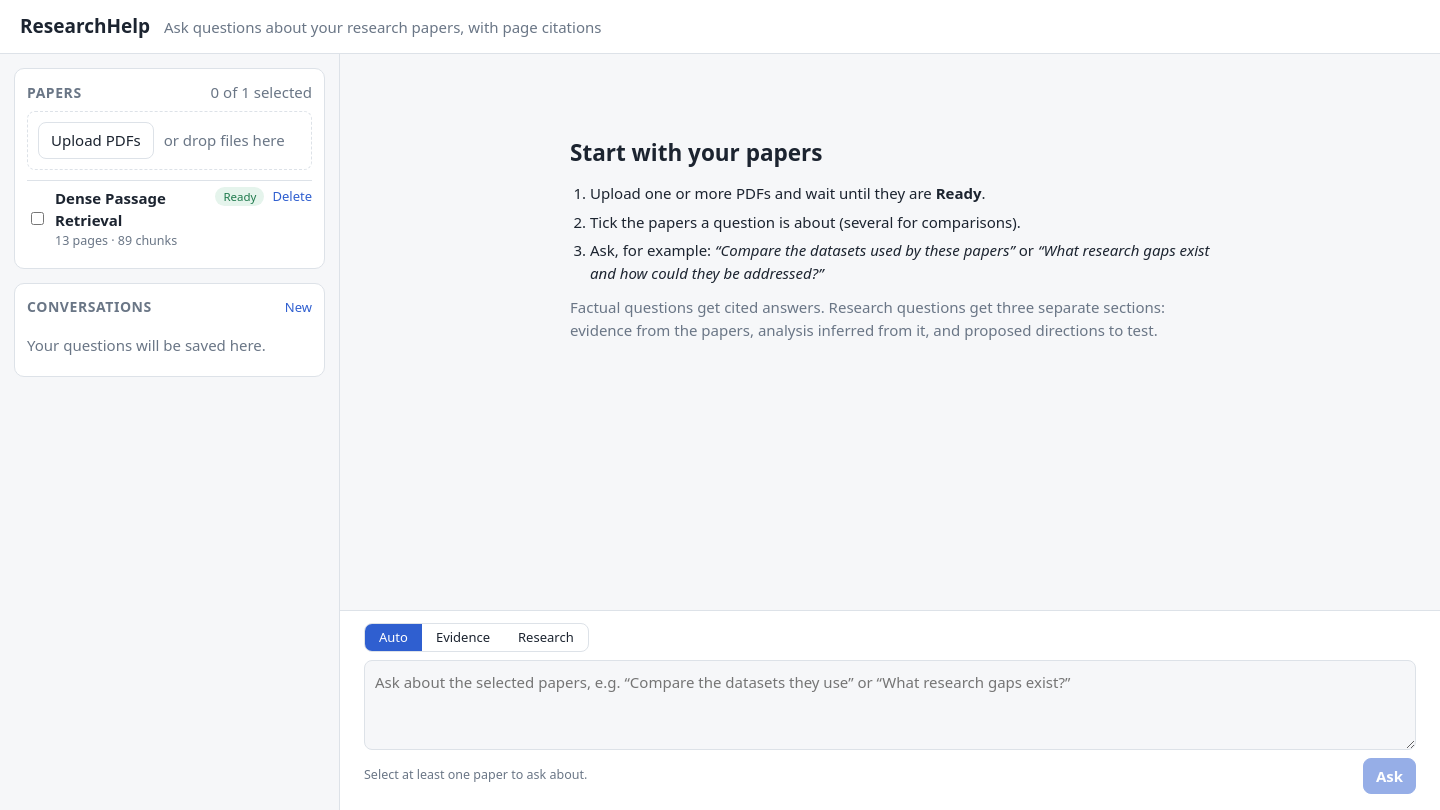
Scenario: App › sends the chosen mode, and shows a research answer in three sections
Expected: the text "Dense Passage Retrieval" is shown, [55,188,166,230]
Click the checkbox named "Select Dense": click(38, 218) [31,190,44,247]
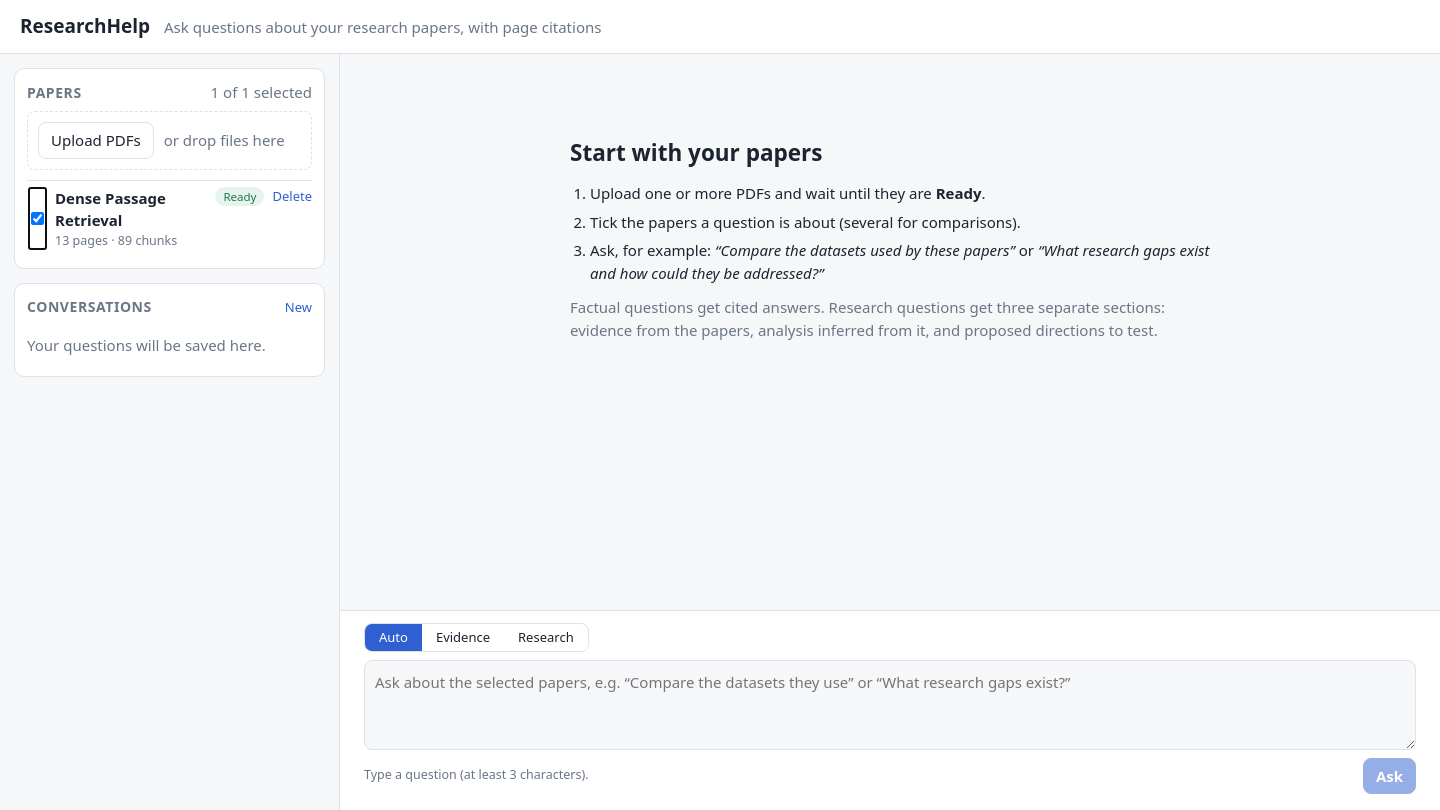
Click the radio button labelled "Research": click(546, 636) [518,628,574,646]
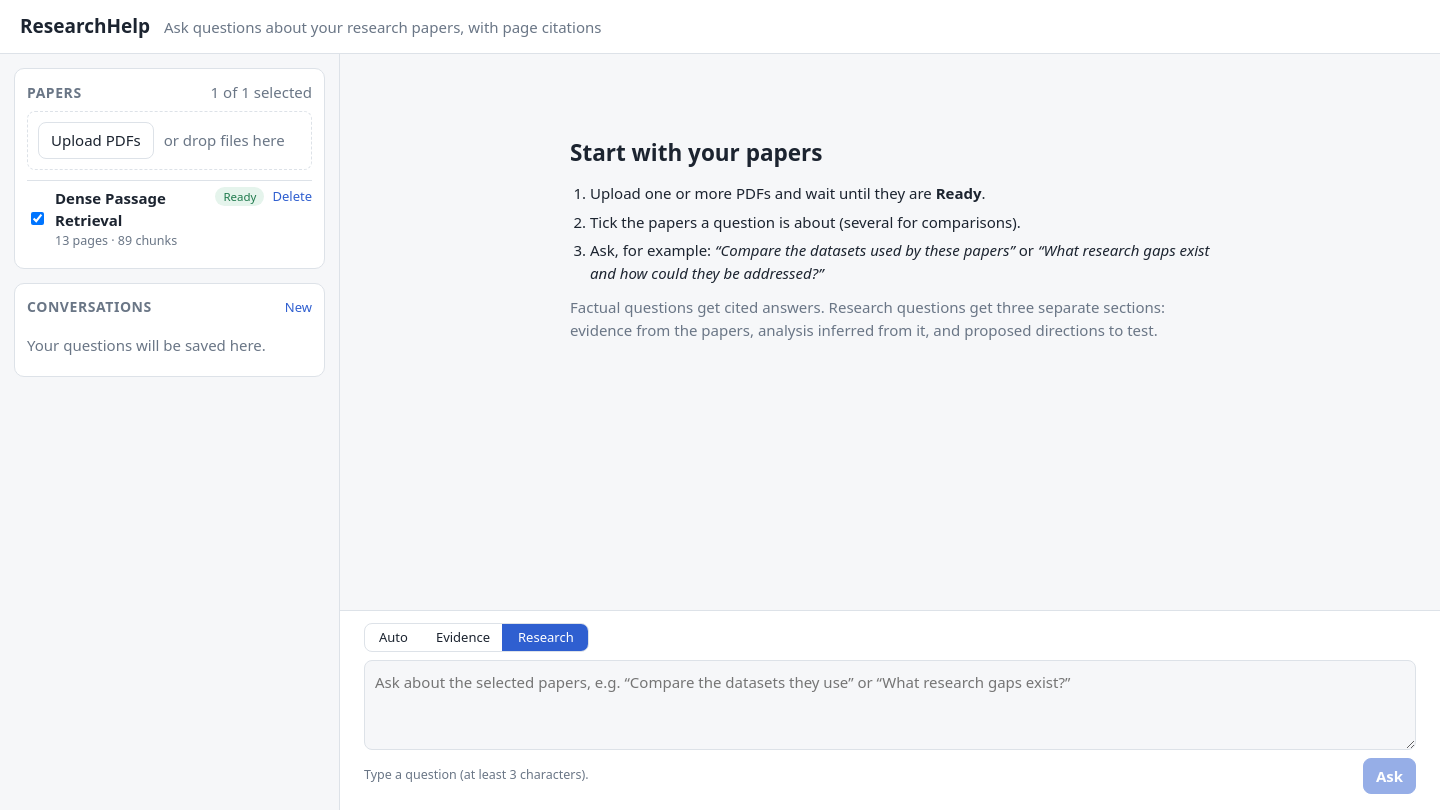
In the text box named "Your question": (890, 705) [364,660,1416,750], type "What could be improved?"
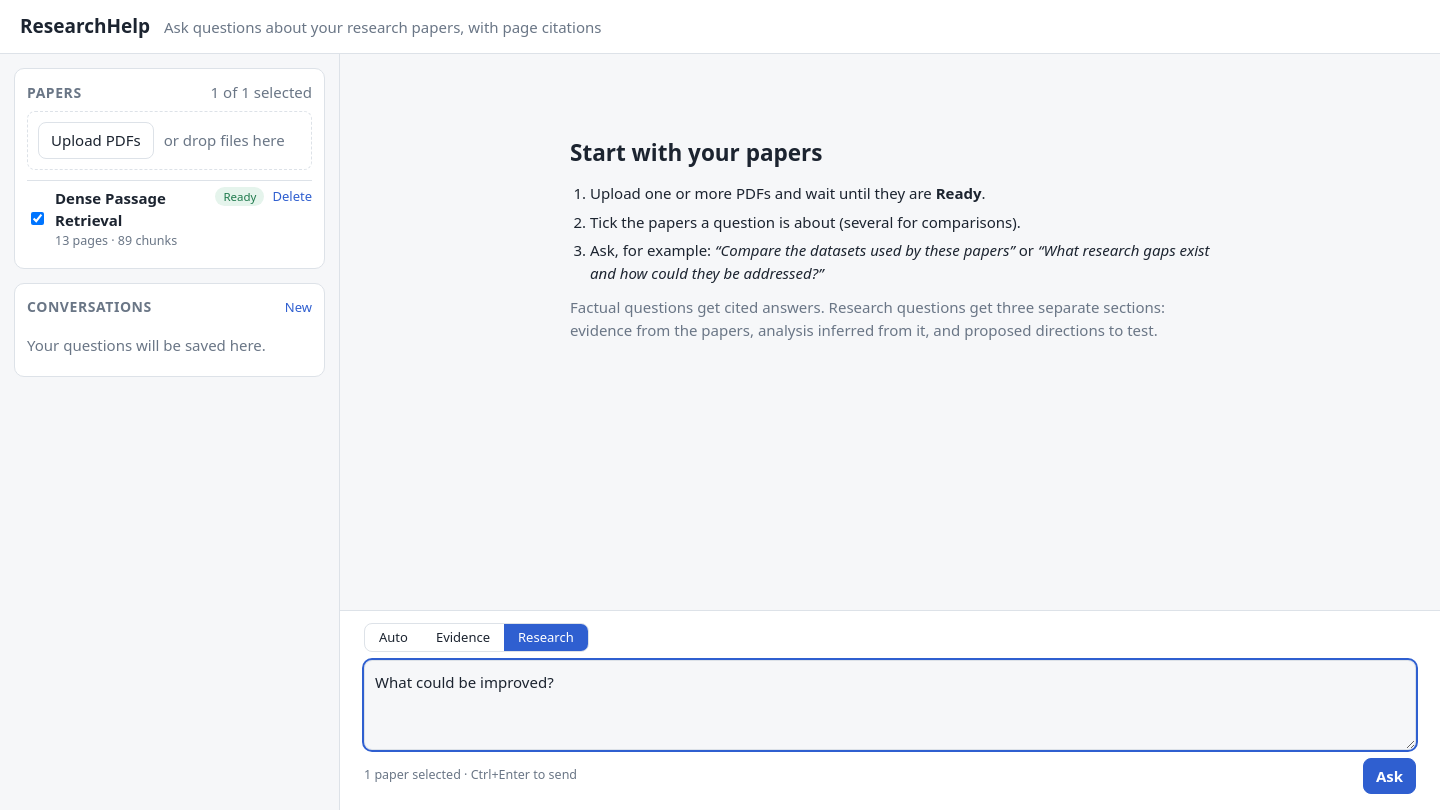
Click the button "Ask": click(1389, 776) [1363,758,1416,794]
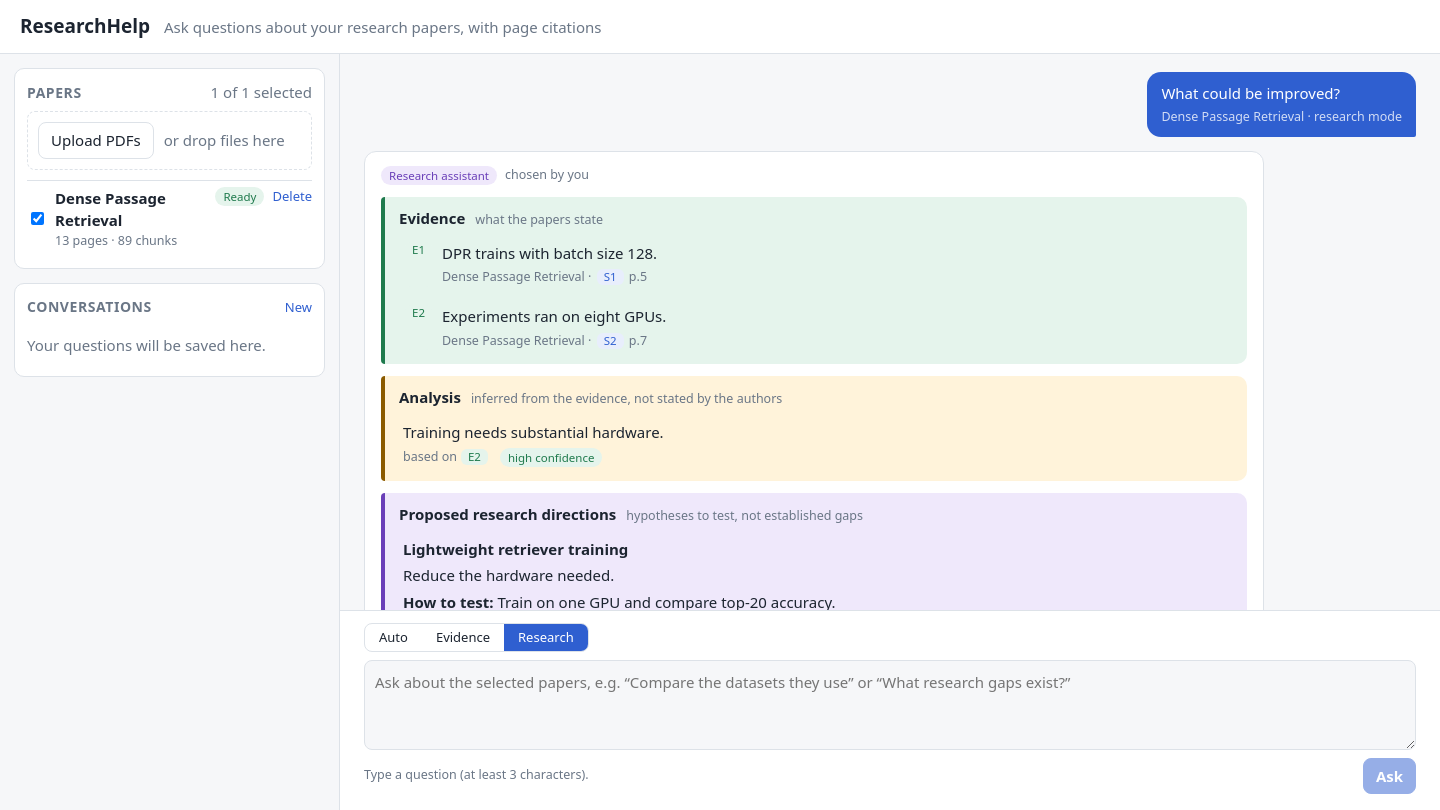
Result: the element named "Research answer" is shown at [364,151,1264,610]
Result: the element "Evidence" is shown at [381,197,1247,364]
Result: the element "Analysis" is shown at [381,376,1247,481]
